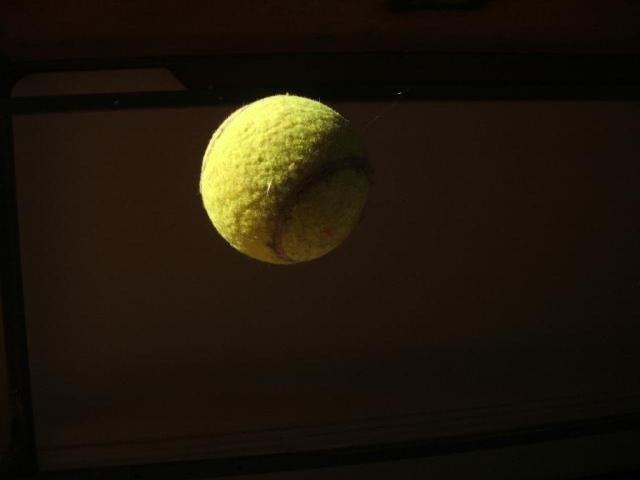tennis-ball: (198, 93, 371, 265)
